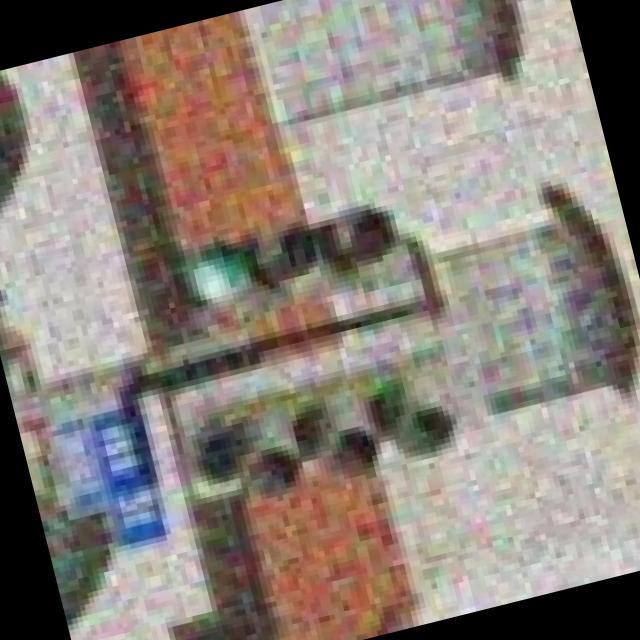green-lights: (161, 220, 277, 334)
